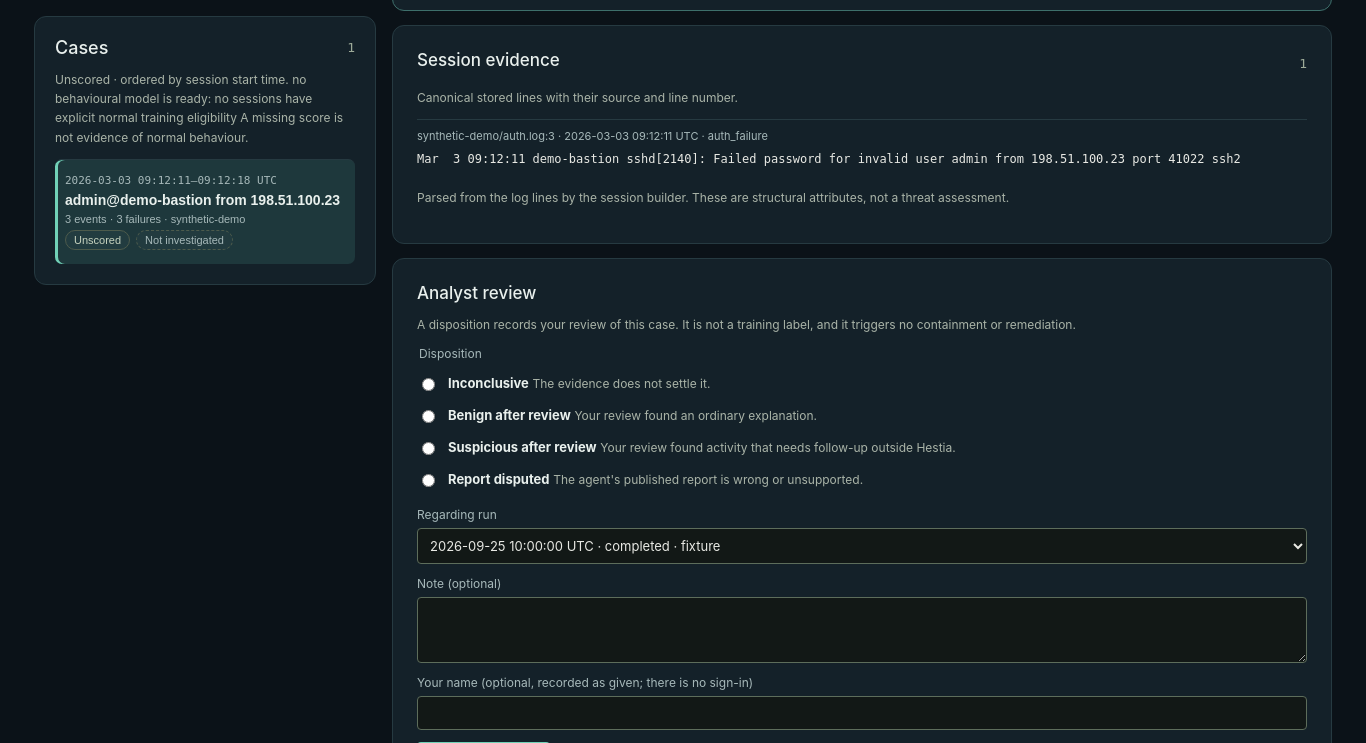
Scenario: records a review disposition and shows it in the history
(page scrolled)
Expected: the text "not a training label" is shown, [417, 317, 1076, 332]
Click the radio button labelled "Inconclusive The evidence does not settle it.". click: (428, 385)
box: [422, 378, 435, 391]
(page scrolled)
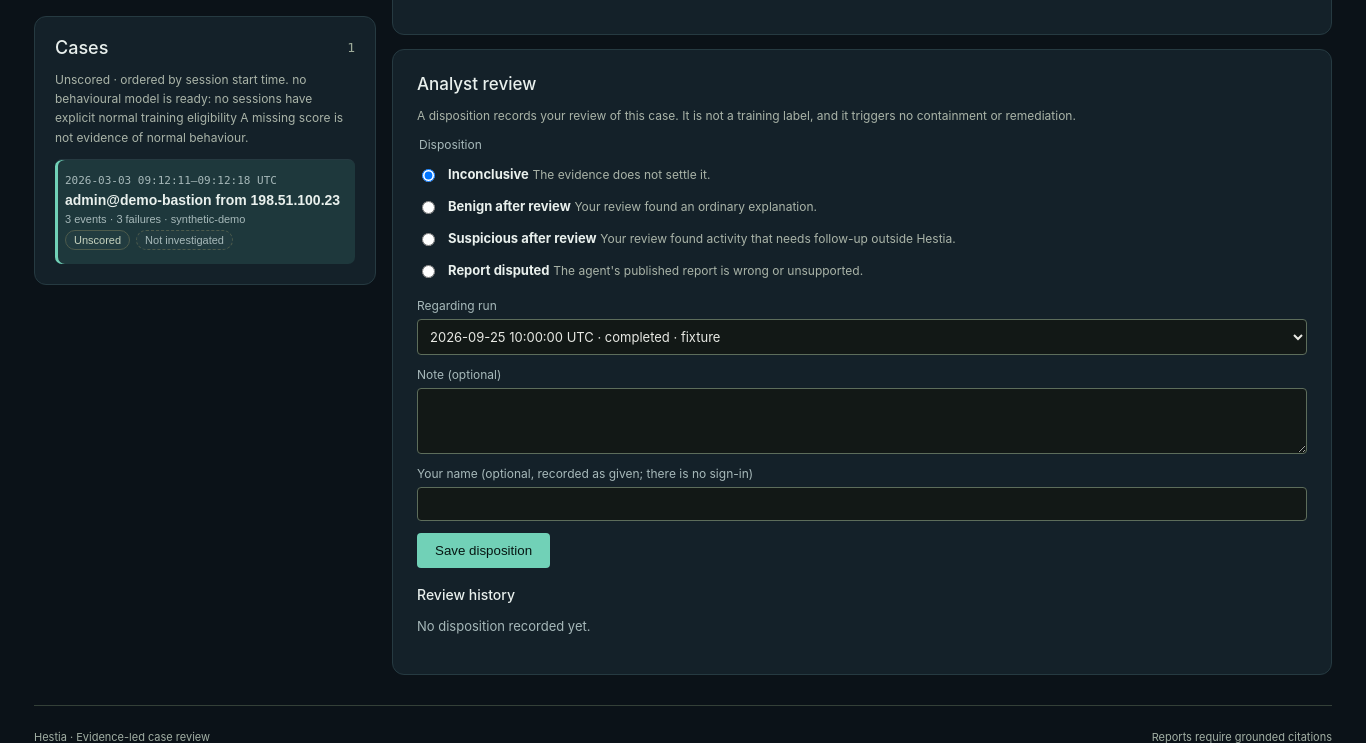
Type "Needs host context." into the text box labelled "Note (optional)". click: (862, 421)
box: [417, 388, 1307, 454]
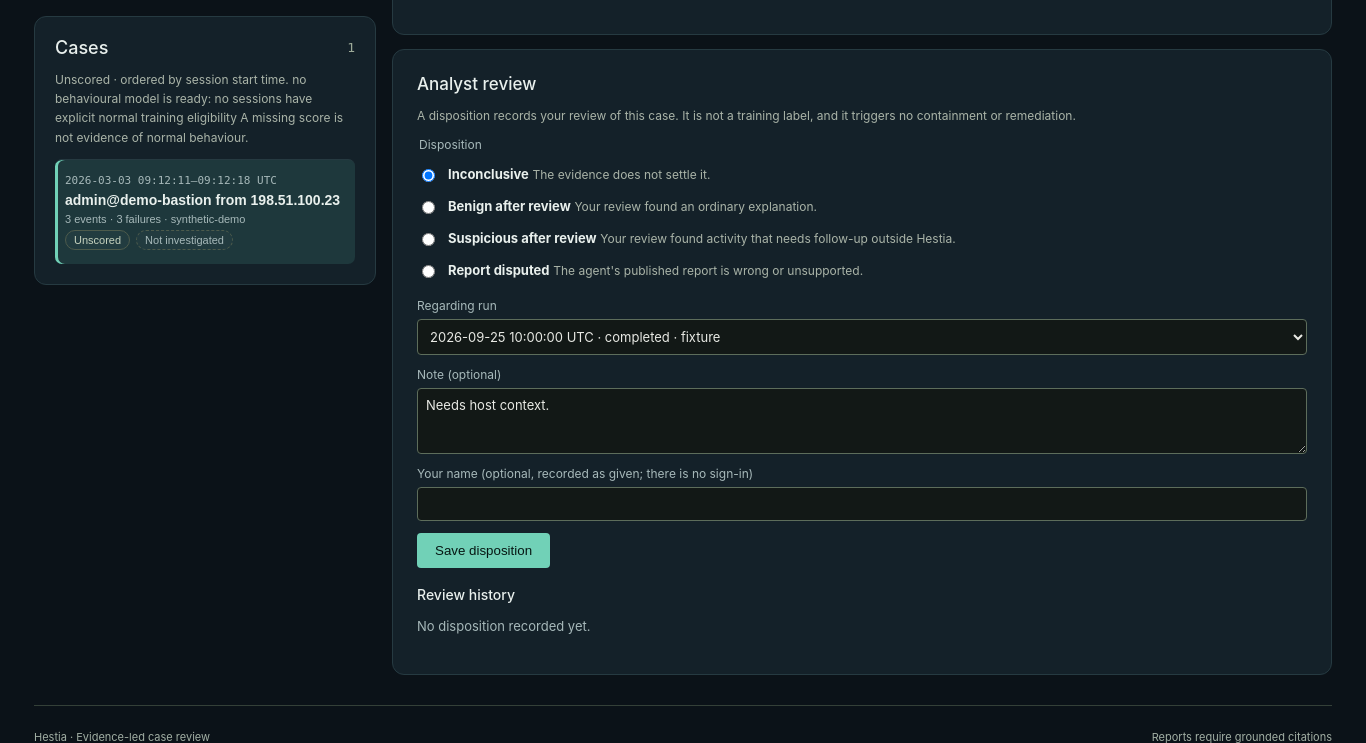
Click the button "Save disposition". click: (484, 551)
box: [417, 533, 550, 568]
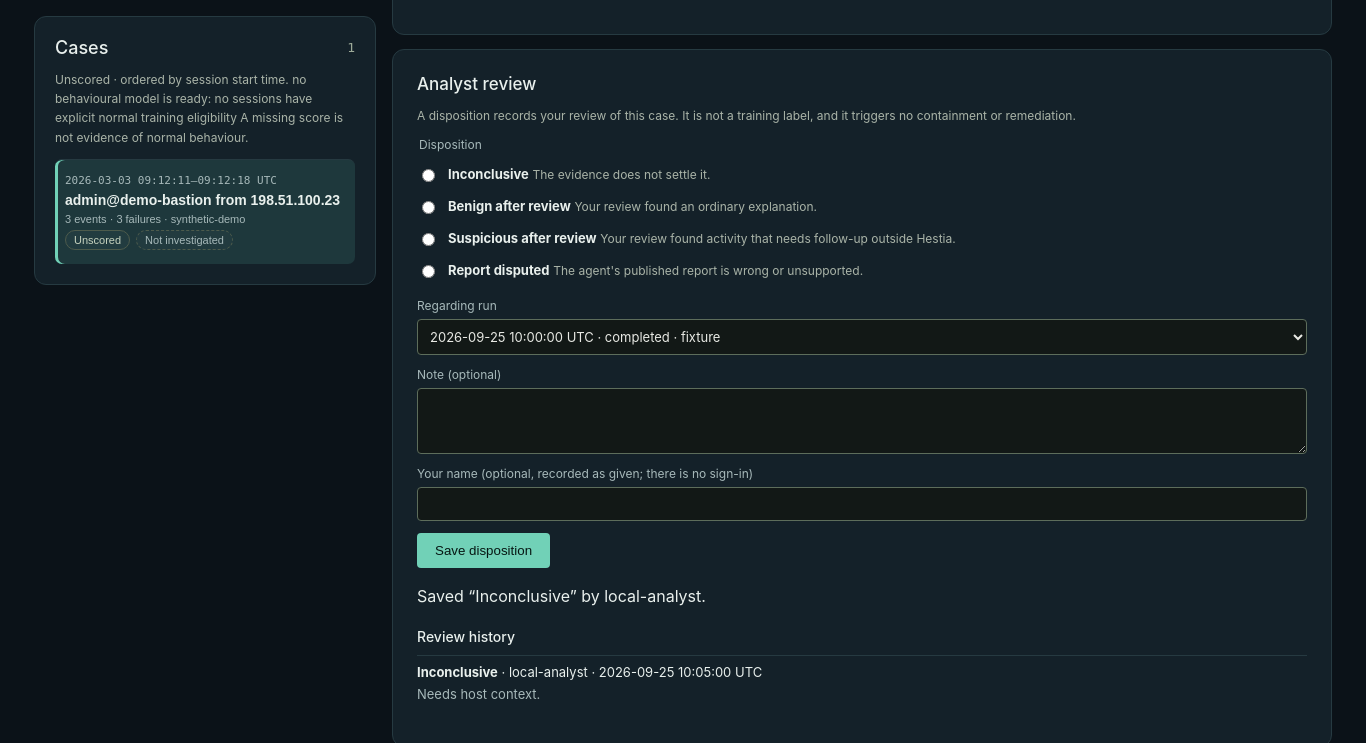
Result: the text "Saved “Inconclusive” by local-analyst." is shown at [417, 586, 706, 606]
Result: the text "Needs host context." is shown at [417, 686, 540, 702]
